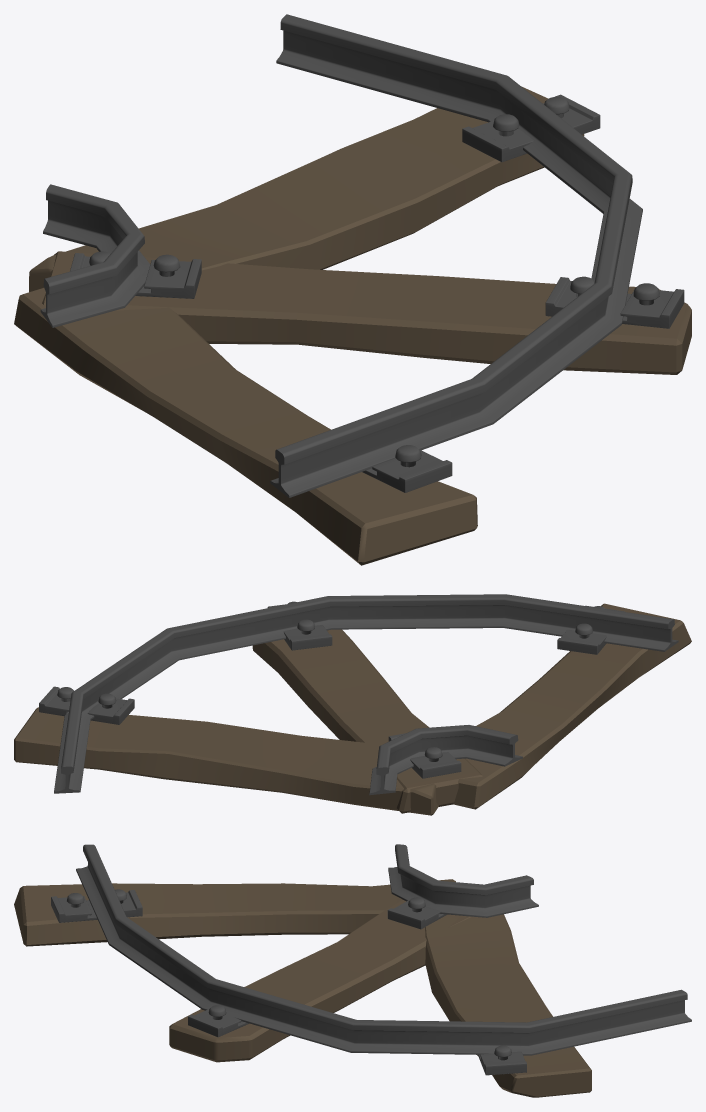
The model's file is SM_railC_v1.fbx.
3 renders of one model, top to bottom at view 1: azimuth 30°, elevation 25°; view 2: azimuth 150°, elevation 25°; view 3: azimuth 270°, elevation 25°, orthographic. The views are drawn at different scales.
Visible parts, largest first — view 1: SM_railC; view 2: SM_railC; view 3: SM_railC.
Part boxes in pixels (left/top/right/bottom): SM_railC: left=14, top=14, right=691, bottom=565; SM_railC: left=14, top=594, right=691, bottom=815; SM_railC: left=14, top=844, right=691, bottom=1097.
Bounding box in the file's own units: 5 × 0.6459 × 7.03.
